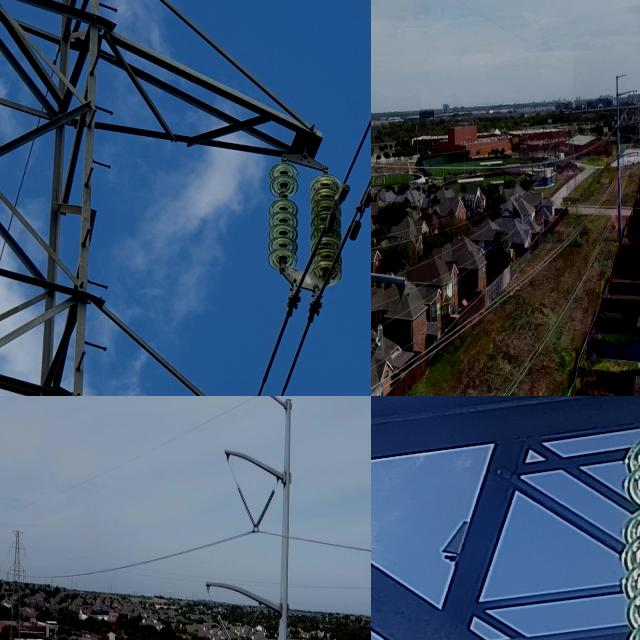杆塔: (0, 0, 307, 396), (2, 516, 28, 640)
正常电缆: (255, 307, 314, 396)
正常绝缘子: (268, 158, 300, 283), (308, 176, 343, 288), (228, 469, 261, 542), (247, 483, 282, 548), (210, 594, 237, 640), (239, 602, 264, 640), (371, 332, 384, 367)
绝缘子破损: (278, 191, 290, 198)
